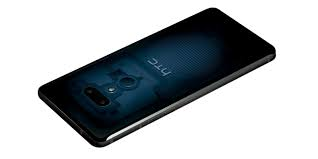htc: (35, 4, 280, 152)
